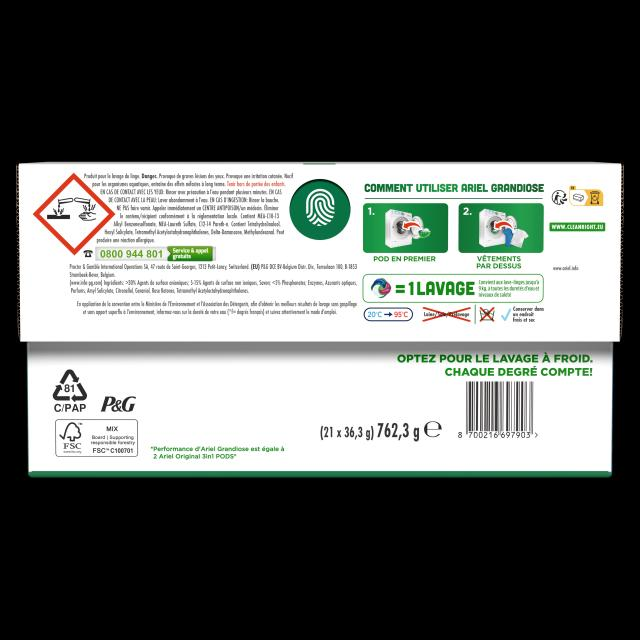GHS_Symbol_CORROSION: (31, 172, 115, 255)
